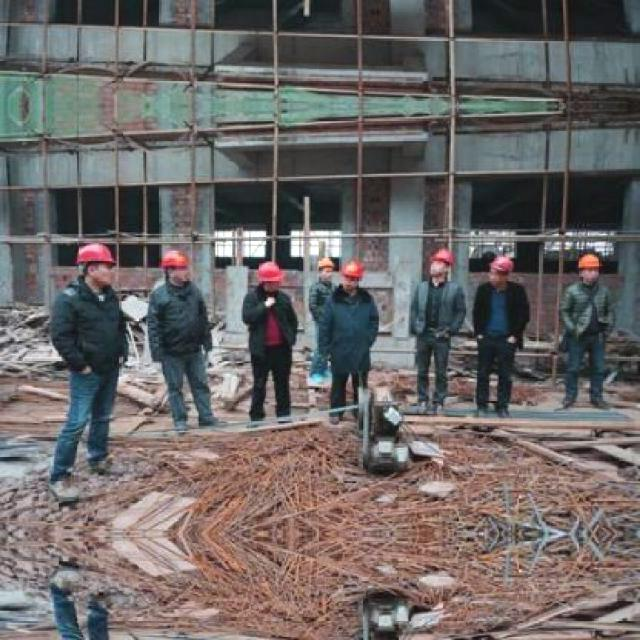face_mask: (430, 259, 448, 277), (583, 266, 600, 284)
face_nomask: (95, 262, 117, 286), (174, 264, 192, 286), (342, 275, 358, 292), (488, 268, 503, 286)
head_helmet: (75, 239, 117, 266), (255, 259, 285, 282), (161, 247, 190, 269), (342, 259, 366, 279), (431, 247, 455, 266), (491, 254, 515, 272), (577, 253, 601, 269), (314, 255, 336, 269)
person: (44, 240, 128, 508), (148, 248, 216, 432), (468, 255, 532, 420), (550, 252, 615, 414), (408, 246, 464, 418), (326, 255, 378, 428), (245, 260, 296, 427)
shoes: (87, 449, 129, 482), (44, 471, 83, 503)
